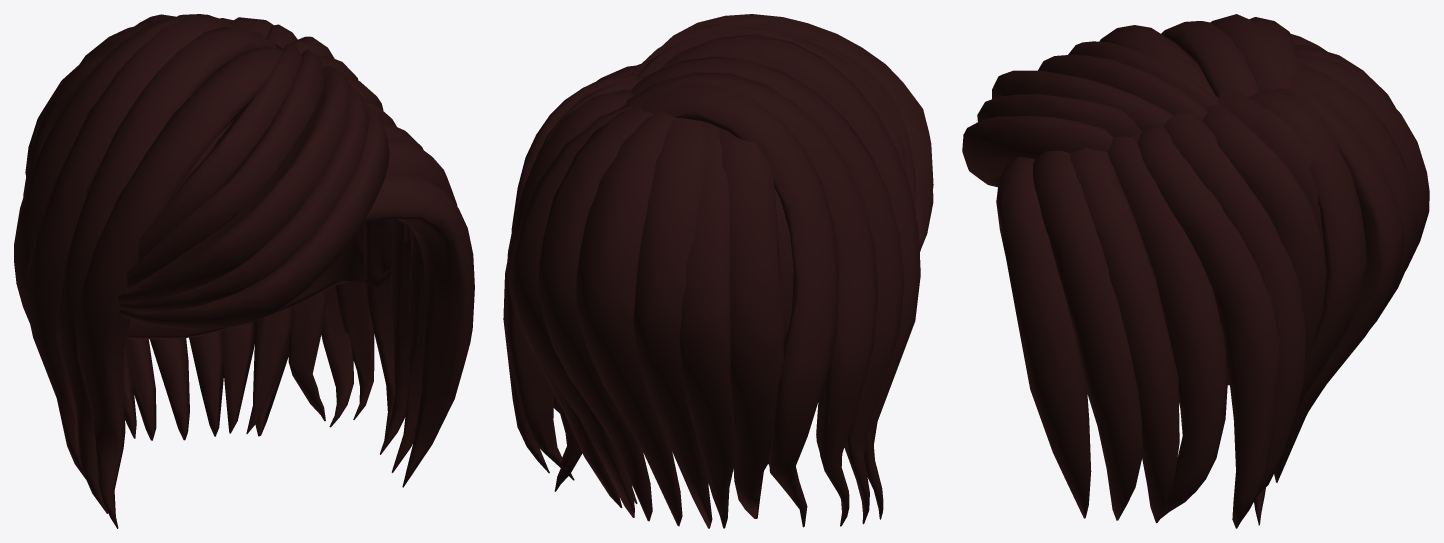
Rendered from hair-2-6e122c20.glb.
3 views of the same model, side by side, from view 1: azimuth 30°, elevation 25°; view 2: azimuth 150°, elevation 25°; view 3: azimuth 270°, elevation 25° (orthographic). The views are drawn at different scales.
Visible parts, largest first — view 1: hair_2.001; view 2: hair_2.001; view 3: hair_2.001.
Boxes of the visible parts, <box> form: hair_2.001: <box>14,14,474,528</box>; hair_2.001: <box>503,14,933,528</box>; hair_2.001: <box>962,14,1429,528</box>.
Bounding box in the file's own units: 2.01 × 2.36 × 2.32.
